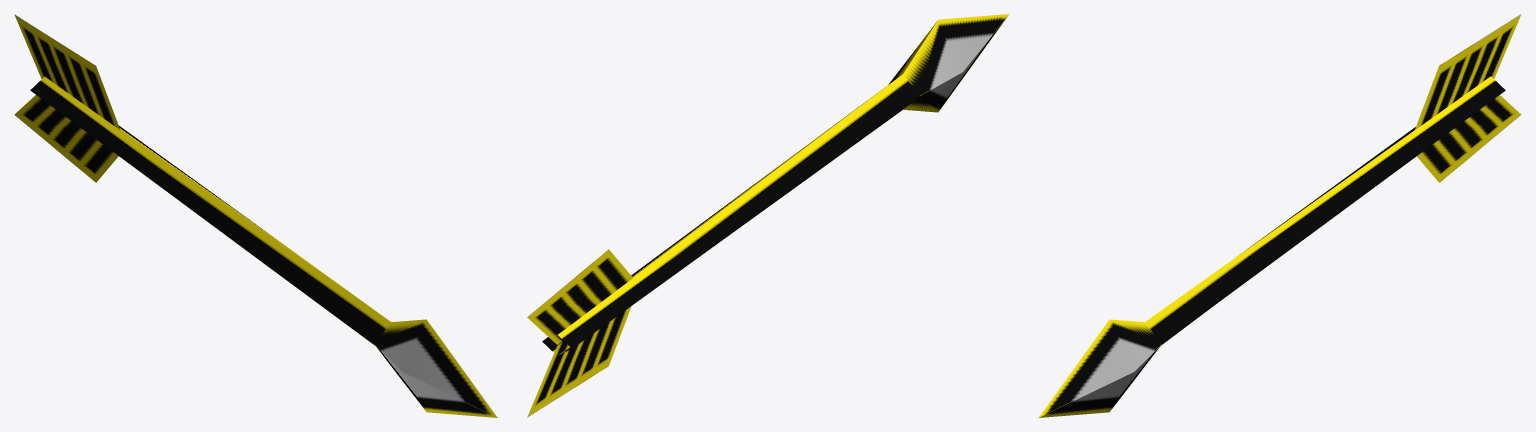
3 views of the same model, side by side, from view 1: azimuth 30°, elevation 25°; view 2: azimuth 150°, elevation 25°; view 3: azimuth 330°, elevation 25° (orthographic).
Parts seen in each view (by area): view 1: Box001; view 2: Box001; view 3: Box001.
Part boxes in pixels (<box>): Box001: <box>14,14,497,417</box>; Box001: <box>527,14,1009,417</box>; Box001: <box>1038,14,1521,417</box>.
Bounding box in the file's own units: 10.18 × 173 × 23.13.
